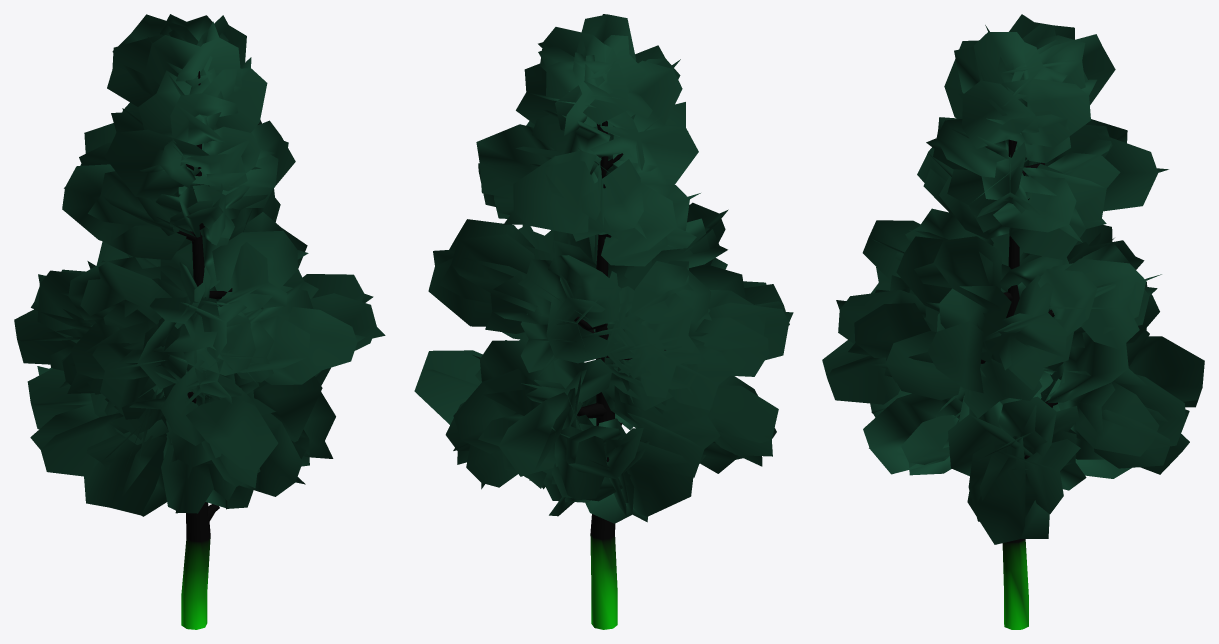
Rendered from SM_FirTree3.fbx.
3 views of the same model, side by side, from view 1: azimuth 30°, elevation 25°; view 2: azimuth 150°, elevation 25°; view 3: azimuth 270°, elevation 25° (orthographic).
Visible parts, largest first — view 1: SM_FirTree3_LOD0; view 2: SM_FirTree3_LOD0; view 3: SM_FirTree3_LOD0.
Part boxes in pixels (x1,y1,x2,y2): SM_FirTree3_LOD0: (14,14,385,629); SM_FirTree3_LOD0: (414,14,793,629); SM_FirTree3_LOD0: (822,14,1204,629).
Size of what is drawn, in the model's own units: 662 by 1161 by 669.
